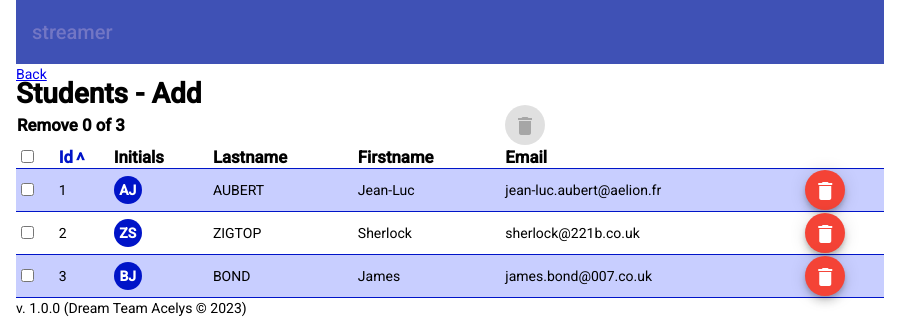
Test: Student list test › Should check every student checkboxes
Check the checkbox with id "check-uncheck-all" at {"x": 28, "y": 157}, box [21,150,34,163]
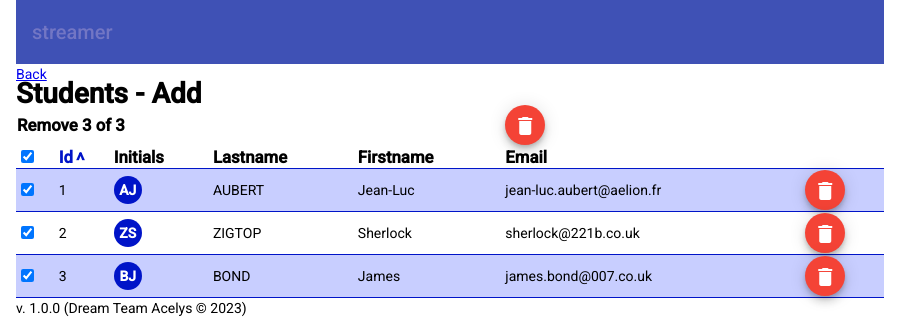
Expected: the 1st checkbox with class "student-check" is checked, [21,183,34,196]
